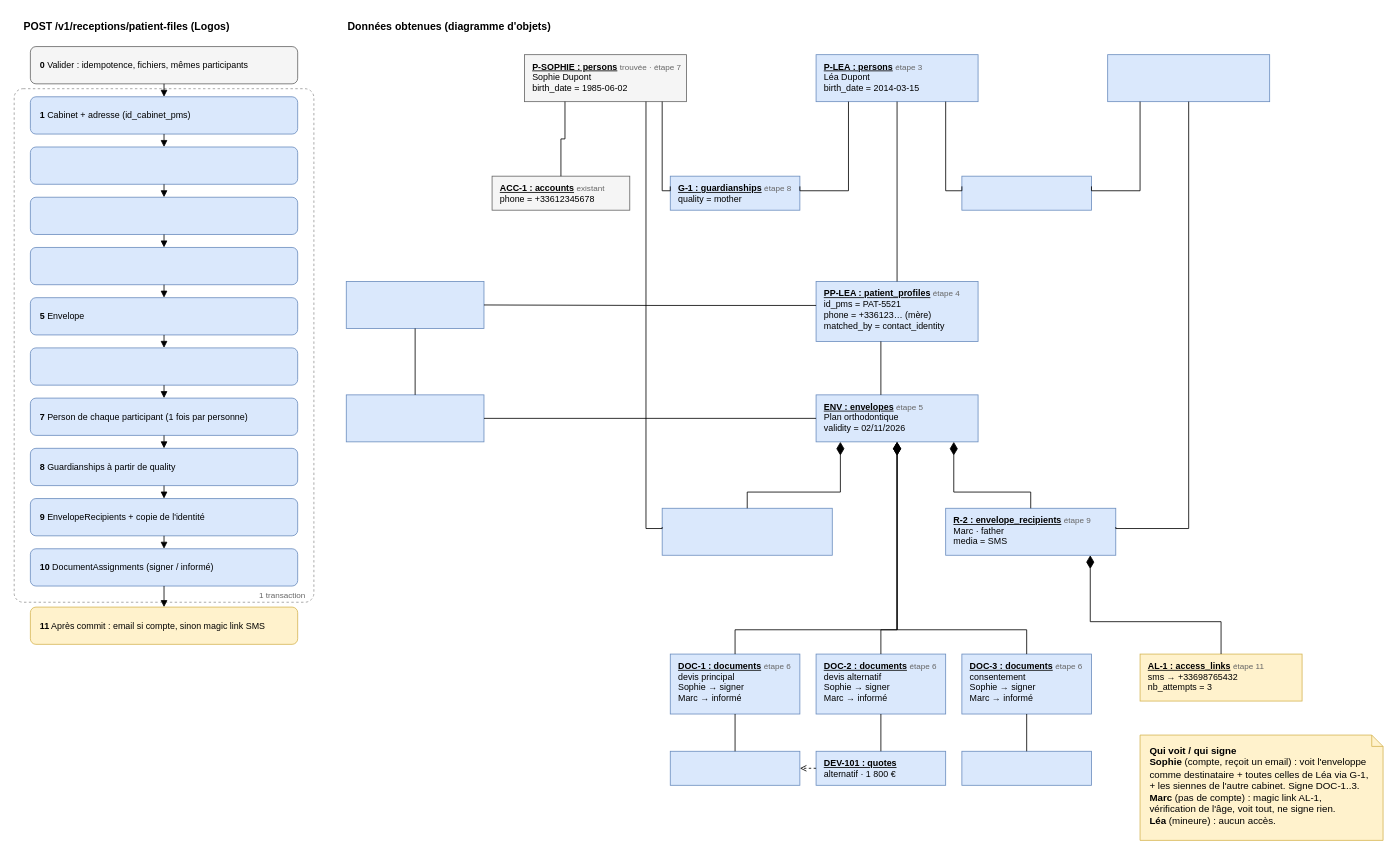
The diagram is 1397 pixels wide and 855 high, and some of its shapes have lost their labels. Here are the shapes that lost their labels. From the top down, the centre of each, then its label:
At pixel 1188 78: "P-MARC : persons étape 7 Marc Dupont birth_date = 13/01/2025".
At pixel 164 165: "2 Praticien (id_cabinet, id_praticien_pms)".
At pixel 1026 192: "G-2 : guardianships étape 8 quality = father".
At pixel 164 215: "3 Person du patient : INS, sinon tel + email + naissance + nom + prénom".
At pixel 164 266: "4 PatientProfile (id_cabinet, id_pms)".
At pixel 414 304: "CAB : cabinets étape 1 CAB-001 Dentaire du Parc".
At pixel 164 366: "6 Documents + devis + consentement".
At pixel 414 418: "PRA : practitioners étape 2 PRA-07 Dr Paul Martin".
At pixel 746 531: "R-1 : envelope_recipients étape 9 Sophie · mother media = Email, SMS".
At pixel 734 767: "DEV-100 : quotes principal · 2 400 €".
At pixel 1026 767: "C-3 : consents".
